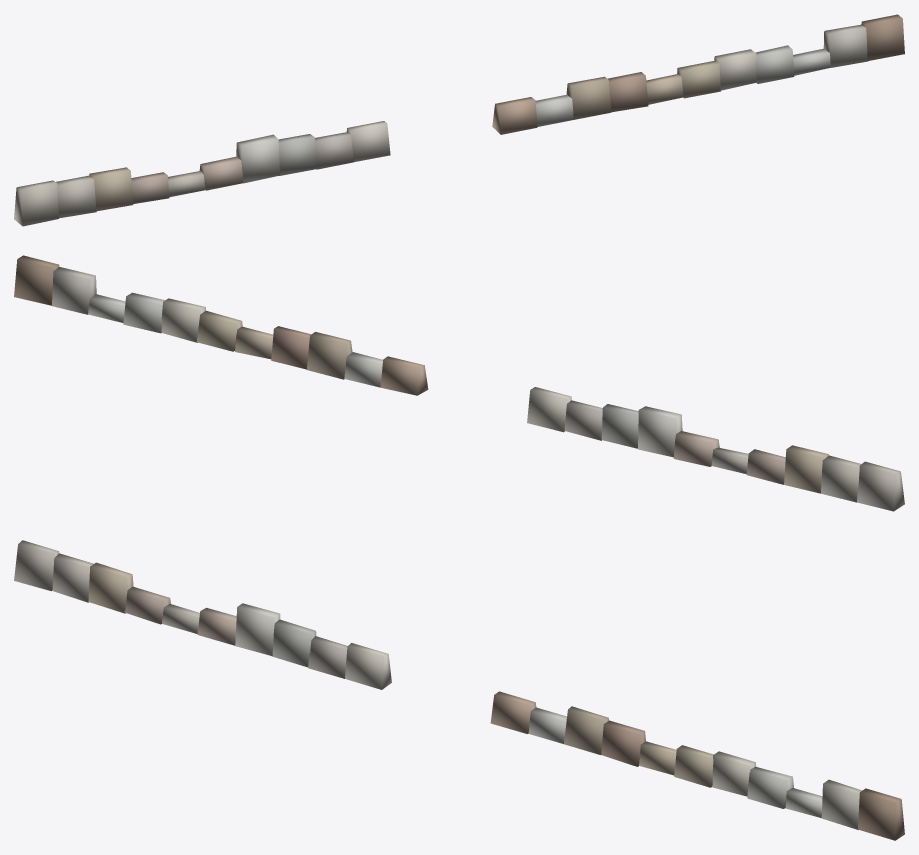
Rendered from farm_11_21_far.glb.
3 views of the same model, one above another, from view 1: azimuth 30°, elevation 25°; view 2: azimuth 150°, elevation 25°; view 3: azimuth 330°, elevation 25° (orthographic). The views are drawn at different scales.
Visible parts, largest first — view 1: geometry_0; view 2: geometry_0; view 3: geometry_0.
Part boxes in pixels (x1=…): geometry_0: x1=14, y1=14, x2=904, y2=226; geometry_0: x1=14, y1=255, x2=904, y2=511; geometry_0: x1=14, y1=540, x2=904, y2=840.
Bounding box in the file's own units: 37.41 × 2.32 × 2.33.
